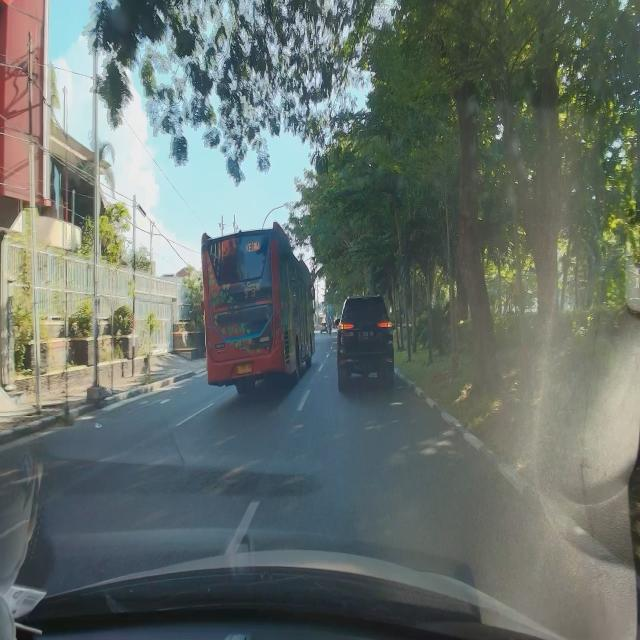bus: (200, 221, 316, 399)
car: (334, 294, 394, 394)
license-plate: (237, 363, 252, 375), (358, 331, 374, 340)
